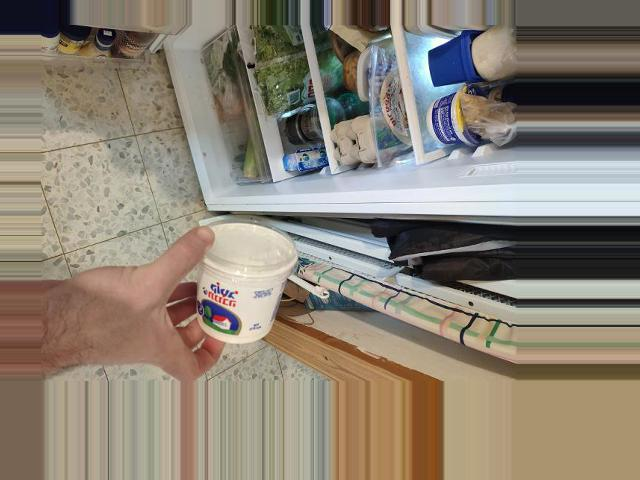cotage: (185, 225, 294, 348)
